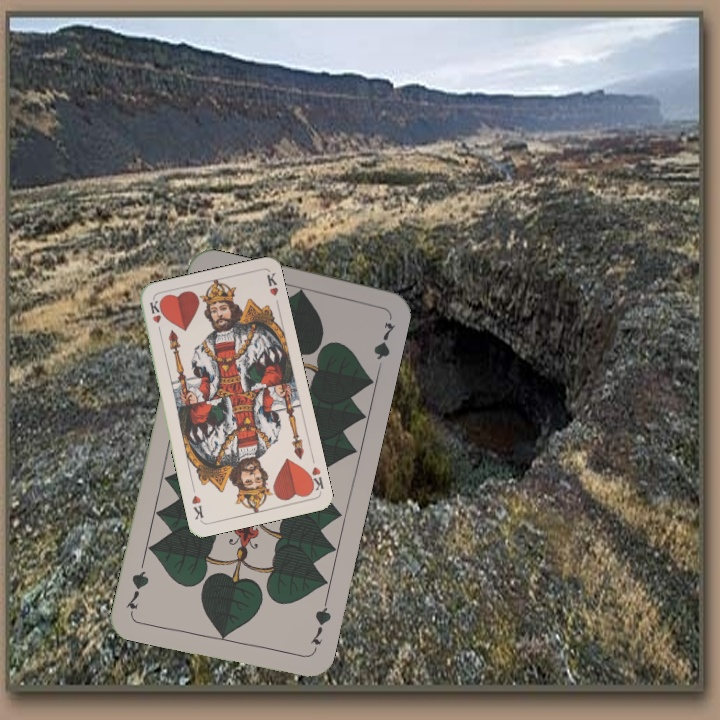G7: (307, 597, 334, 648)
HK: (145, 296, 164, 337), (303, 463, 326, 495)
